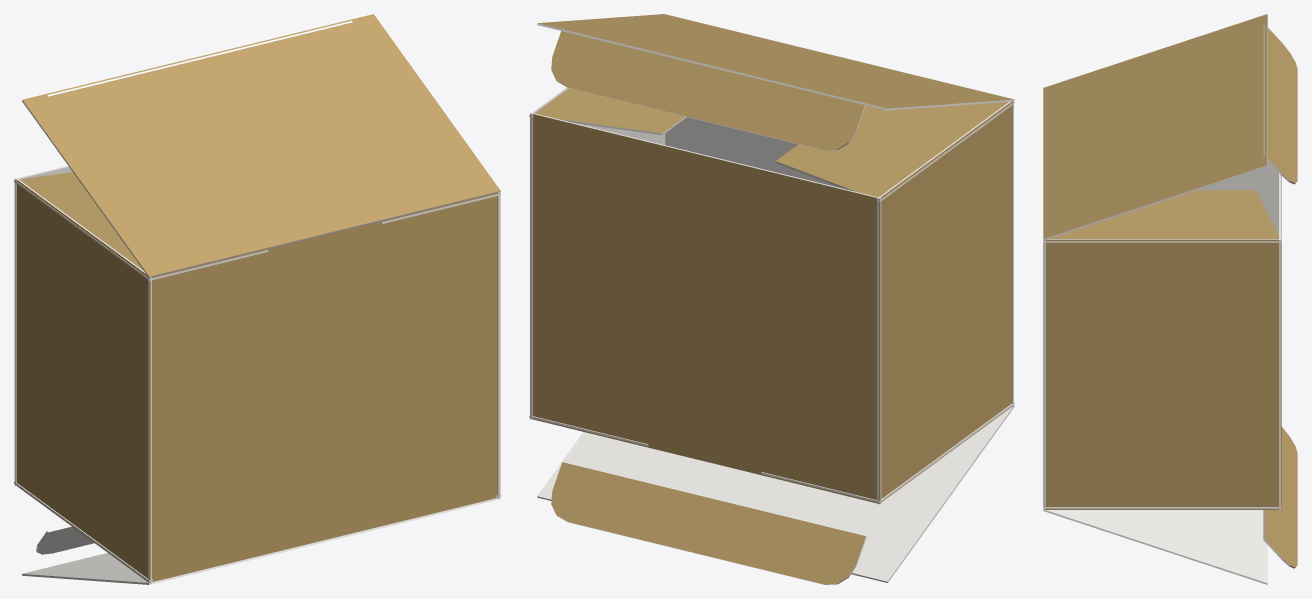
3 views of the same model, side by side, from view 1: azimuth 30°, elevation 25°; view 2: azimuth 150°, elevation 25°; view 3: azimuth 270°, elevation 25° (orthographic). The views are drawn at different scales.
Visible parts, largest first — view 1: Packive_Box_fefco0210; view 2: Packive_Box_fefco0210; view 3: Packive_Box_fefco0210.
Part boxes in pixels (x1,y1,x2,y2): Packive_Box_fefco0210: [14, 14, 500, 584]; Packive_Box_fefco0210: [529, 14, 1014, 584]; Packive_Box_fefco0210: [1043, 14, 1297, 584].
Bounding box in the file's own units: 0.3 × 0.3893 × 0.2135.
Materials: 24 (12 with a texture image).
